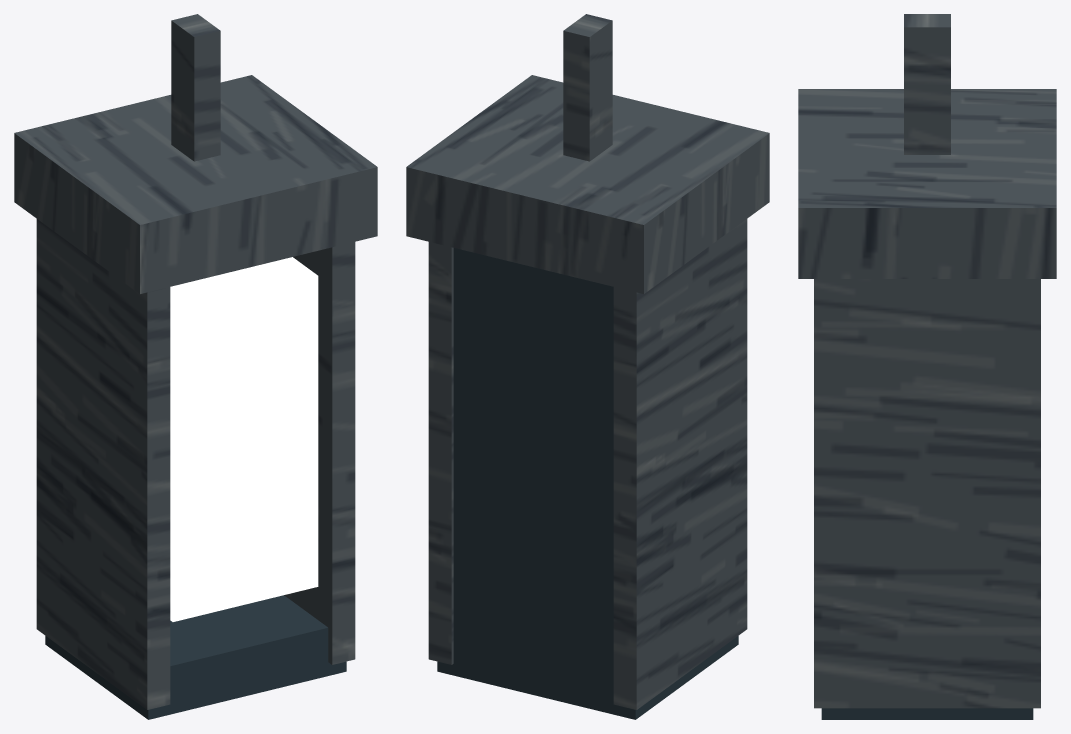
Rendered from lantern.glb.
3 views of the same model, side by side, from view 1: azimuth 30°, elevation 25°; view 2: azimuth 150°, elevation 25°; view 3: azimuth 270°, elevation 25° (orthographic). The views are drawn at different scales.
Visible parts, largest first — view 1: Lantern edge, Lantern cap, Lantern glass, Lantern edge.001, Lantern base, Lantern handle; view 2: Lantern back, Lantern edge, Lantern cap, Lantern edge.001, Lantern handle, Lantern base; view 3: Lantern edge.001, Lantern cap, Lantern handle, Lantern base.
Part boxes in pixels (left/top/right/bottom): Lantern edge: left=36, top=219, right=170, bottom=709; Lantern cap: left=14, top=75, right=377, bottom=293; Lantern glass: left=170, top=257, right=318, bottom=621; Lantern edge.001: left=284, top=242, right=355, bottom=664; Lantern base: left=45, top=595, right=346, bottom=719; Lantern handle: left=171, top=14, right=220, bottom=161; Lantern back: left=453, top=248, right=613, bottom=702; Lantern edge: left=613, top=219, right=747, bottom=709; Lantern cap: left=406, top=75, right=769, bottom=293; Lantern edge.001: left=428, top=242, right=453, bottom=664; Lantern handle: left=563, top=14, right=612, bottom=161; Lantern base: left=437, top=636, right=738, bottom=719; Lantern edge.001: left=814, top=279, right=1040, bottom=708; Lantern cap: left=798, top=89, right=1056, bottom=278; Lantern handle: left=904, top=14, right=950, bottom=154; Lantern base: left=821, top=708, right=1033, bottom=719.
Size of the model in its own units: 0.36 by 0.915 by 0.33.
Materials: 4 (2 with a texture image).
